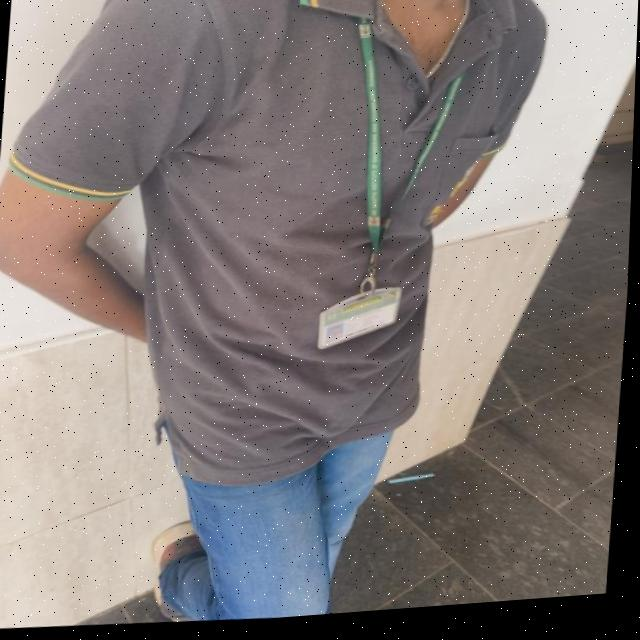id_card: (312, 12, 446, 358)
